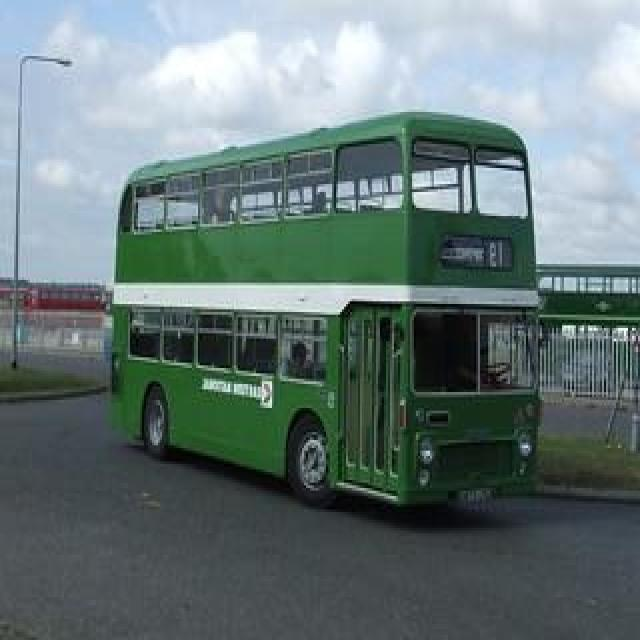Bus: (114, 138, 531, 472)
